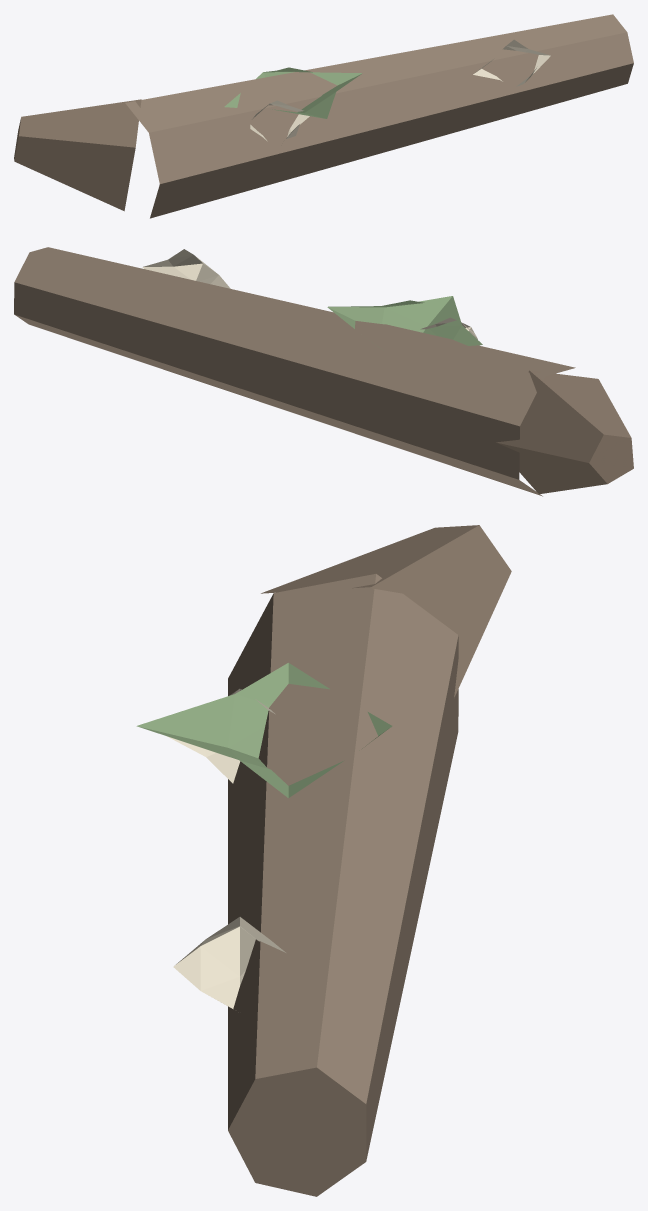
File: log_v24.glb
3 views of the same model, one above another, from view 1: azimuth 30°, elevation 25°; view 2: azimuth 150°, elevation 25°; view 3: azimuth 270°, elevation 25° (orthographic). The views are drawn at different scales.
Visible parts, largest first — view 1: lod0; view 2: lod0; view 3: lod0.
Boxes of the visible parts, x1,y1,x2,y2 form: lod0: [14, 14, 633, 218]; lod0: [14, 247, 633, 496]; lod0: [136, 525, 511, 1196].
Size of what is drawn, in the model's own units: 2.17 by 0.4516 by 0.6188.
